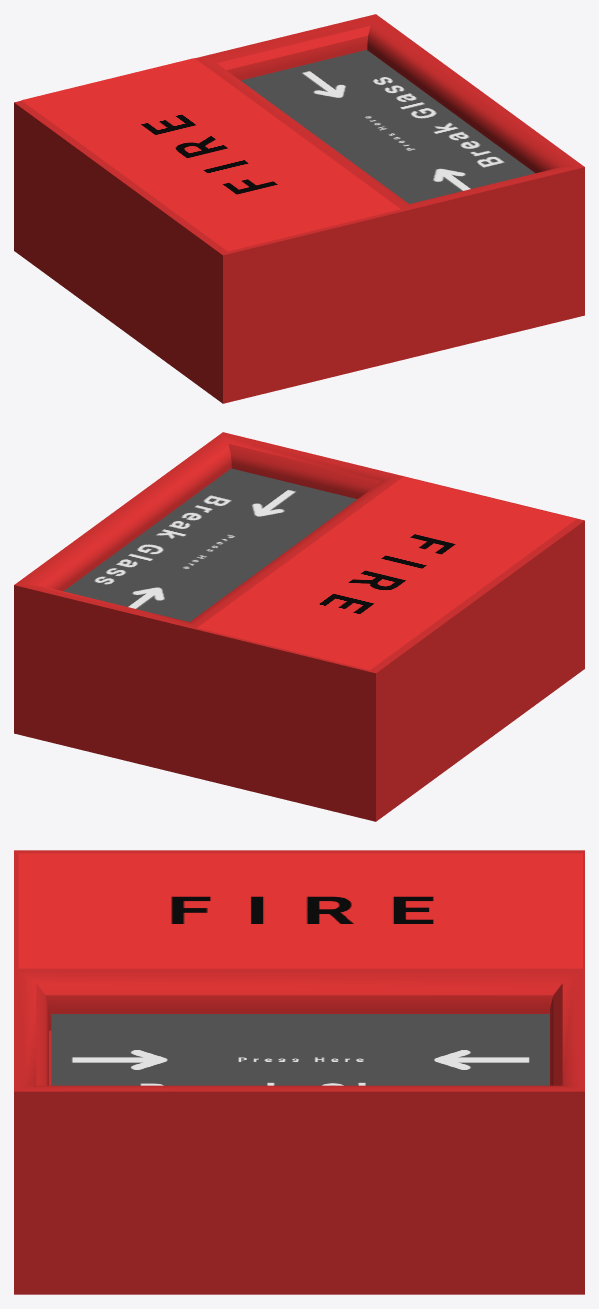
The model's file is Fire Alarm Button.fbx.
3 views of the same model, one above another, from view 1: azimuth 30°, elevation 25°; view 2: azimuth 150°, elevation 25°; view 3: azimuth 270°, elevation 25° (orthographic). The views are drawn at different scales.
Visible parts, largest first — view 1: pCube3; view 2: pCube3; view 3: pCube3.
Boxes of the visible parts, x1,y1,x2,y2 form: pCube3: (14, 14, 584, 403); pCube3: (14, 432, 584, 821); pCube3: (14, 850, 584, 1294).
Size of the model in its own units: 2.09 by 0.8251 by 2.09.
Materials: 3 (2 with a texture image).
